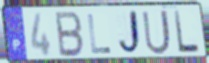4: (30, 12, 55, 60)
B: (55, 10, 85, 59)
J: (117, 9, 143, 58)
L: (172, 9, 201, 55), (86, 13, 113, 55)
U: (140, 9, 172, 57)
